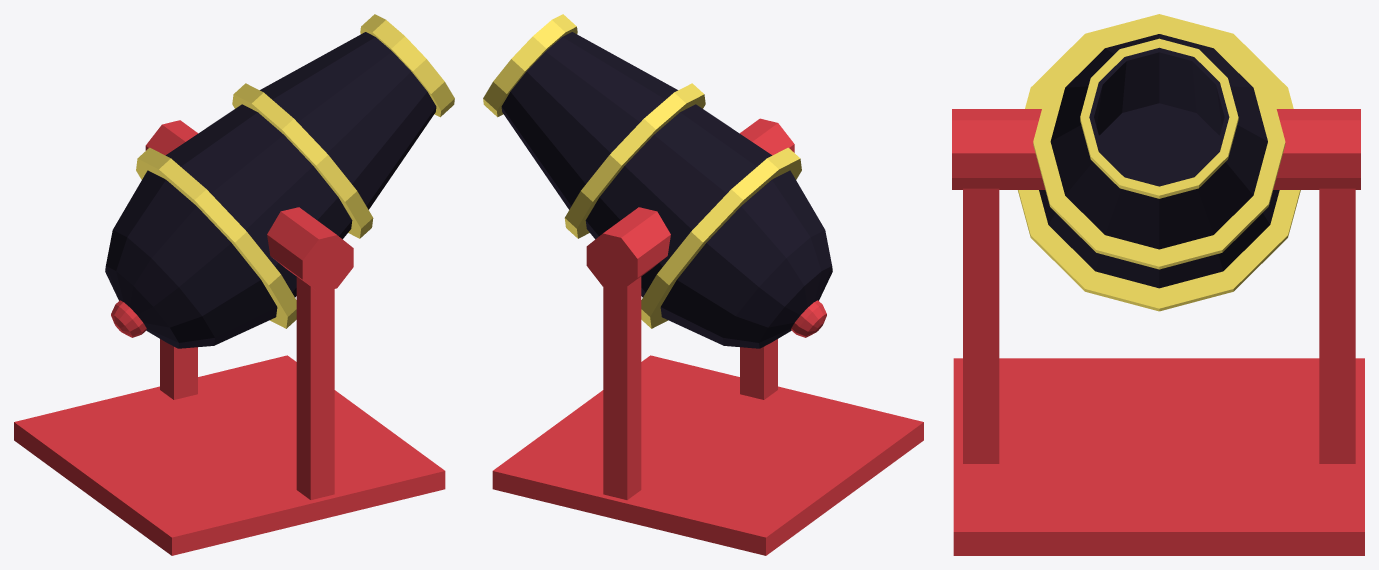
The model's file is low_poly_cannon.glb.
3 views of the same model, side by side, from view 1: azimuth 30°, elevation 25°; view 2: azimuth 150°, elevation 25°; view 3: azimuth 270°, elevation 25° (orthographic). The views are drawn at different scales.
Visible parts, largest first — view 1: Cylinder_0; view 2: Cylinder_0; view 3: Cylinder_0.
Boxes of the visible parts, x1,y1,x2,y2 form: Cylinder_0: (14, 14, 454, 555); Cylinder_0: (483, 14, 923, 555); Cylinder_0: (952, 14, 1364, 555).
Size of the model in its own units: 3.99 by 4.43 by 3.13.
1 material, 1 textured.
